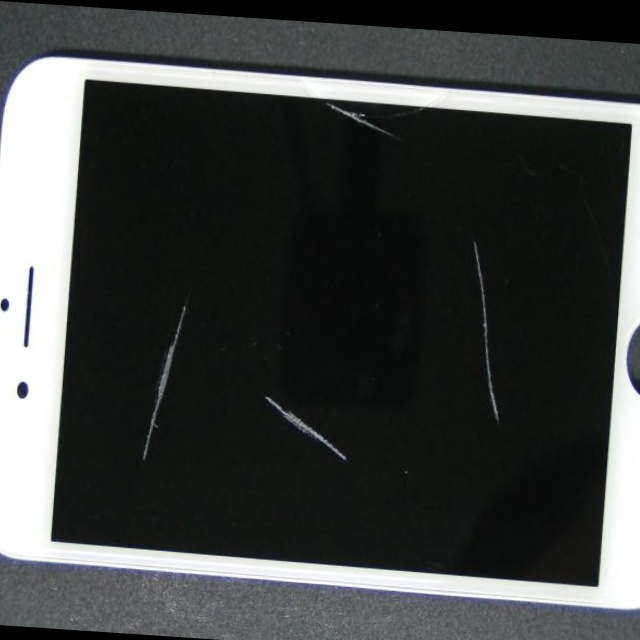scratch: (113, 160, 427, 580), (263, 301, 640, 518), (90, 28, 540, 182)
